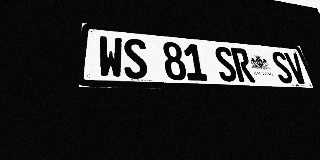1: (182, 43, 208, 81)
8: (162, 41, 187, 80)
R: (230, 47, 256, 82)
S: (123, 38, 148, 79), (213, 46, 239, 82), (270, 51, 295, 84)
V: (284, 52, 309, 84)
W: (98, 36, 124, 79)
